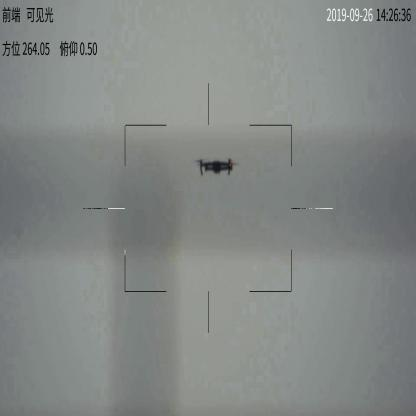uav: (189, 155, 242, 180)
